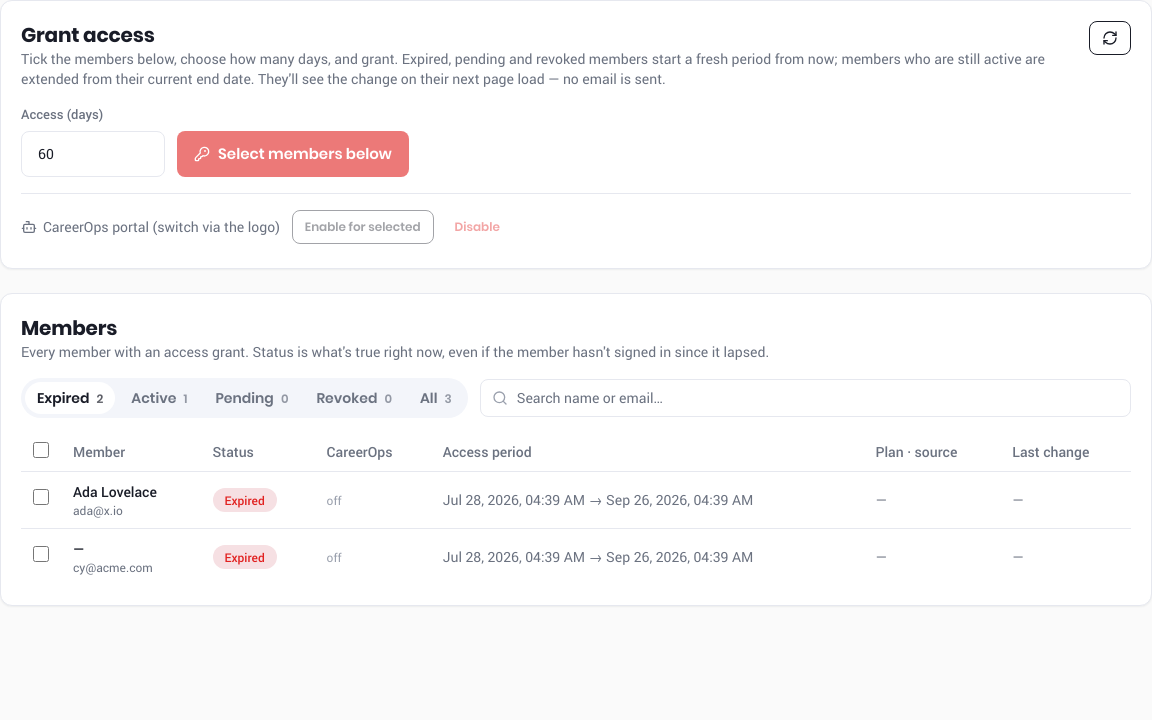
Test: TOFU → Access renewals › select-all grants to every member shown, and the search narrows what's shown
Check: the text "Ada Lovelace" is shown, box 73,482 -> 157,500
Type "acme" into the field named "Search members".
click(805, 398); type("acme")  # box 480,378 -> 1131,416
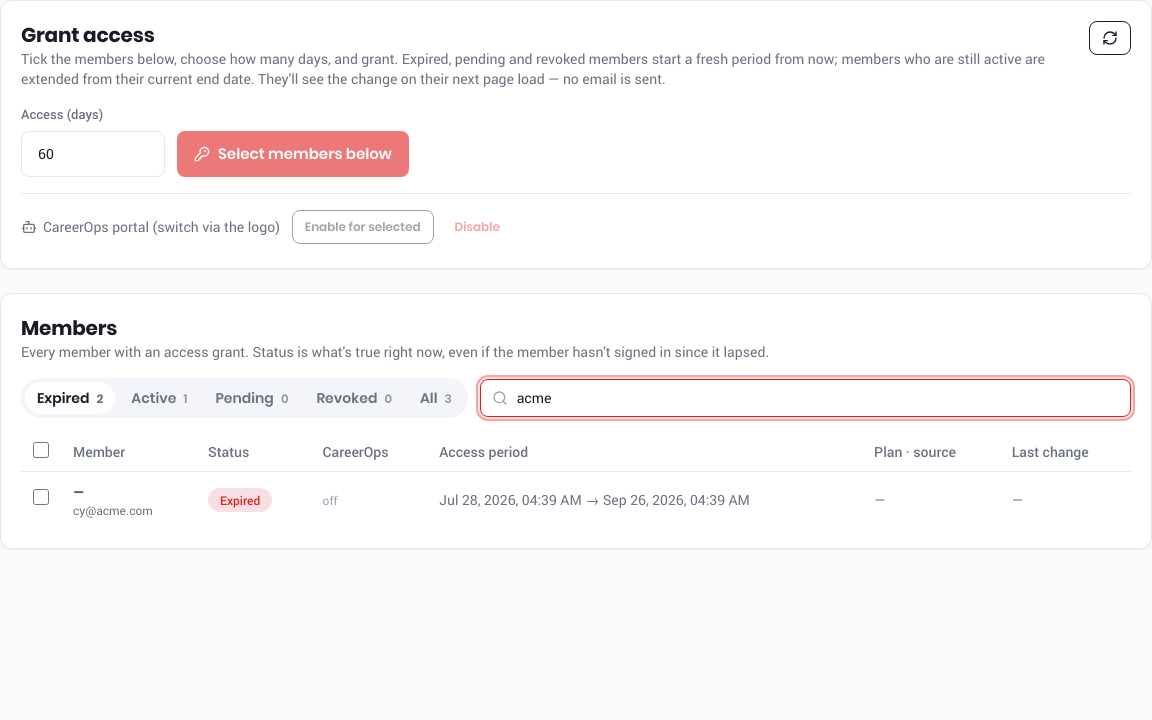
Check: the text "Ada Lovelace" is gone
Clear the field named "Search members" at (805, 398), box 480,378 -> 1131,416
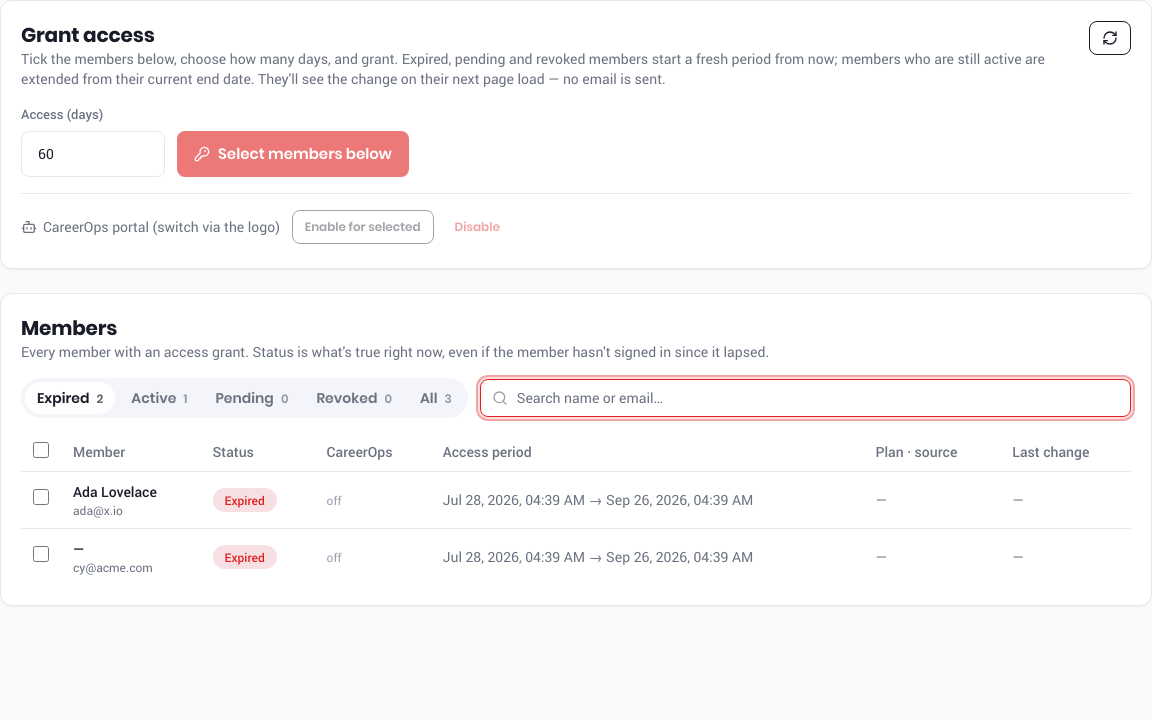
Click the checkbox named "Select all shown".
click(41, 450)  # box 33,442 -> 49,458
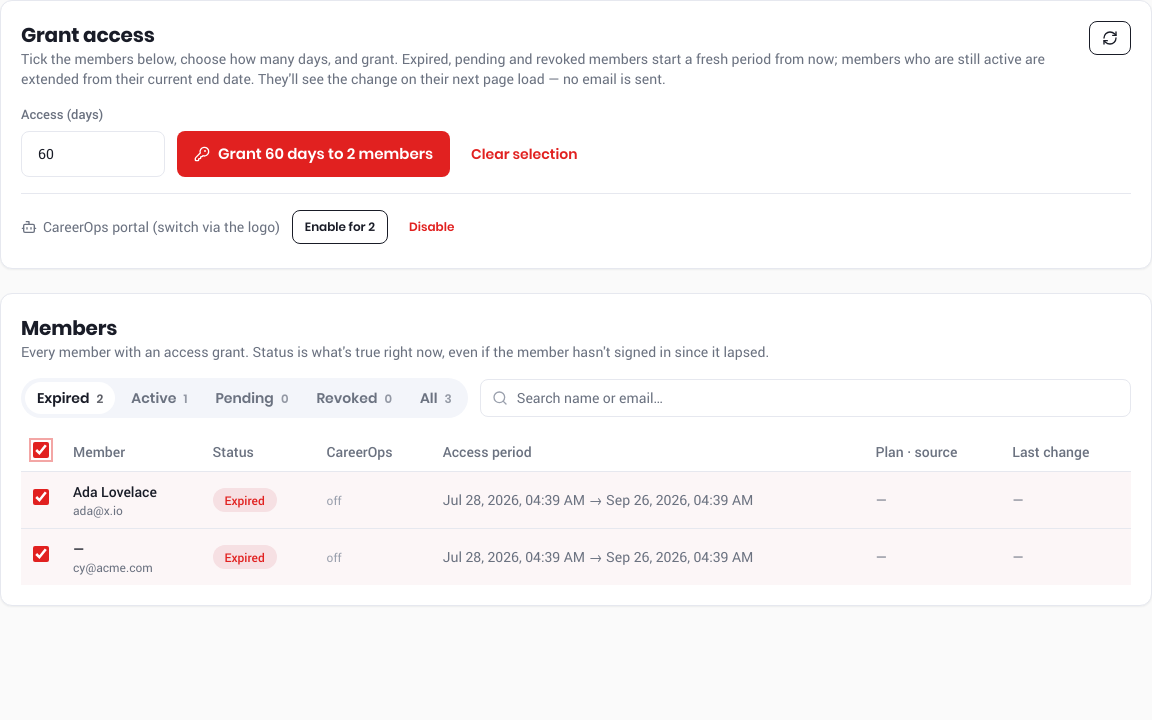
Click the button "Grant 60 days to 2 members".
click(314, 154)  # box 177,130 -> 450,176
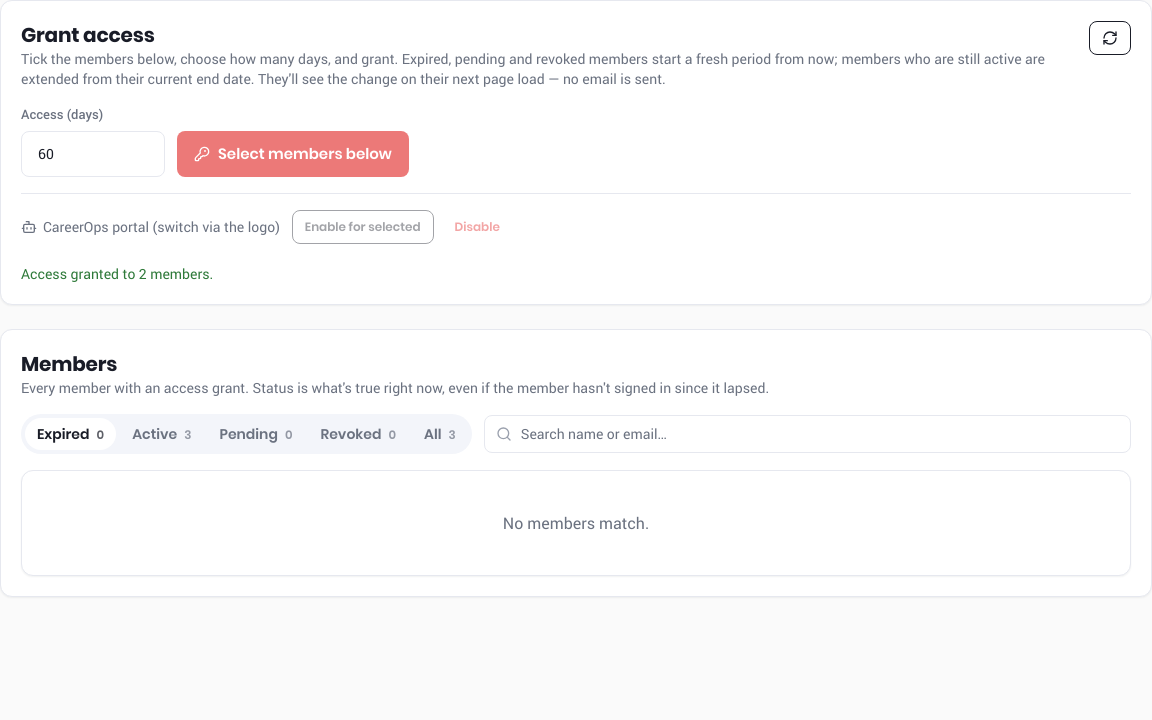
Check: the message reads "Access granted to 2 members.", box 21,264 -> 213,282
